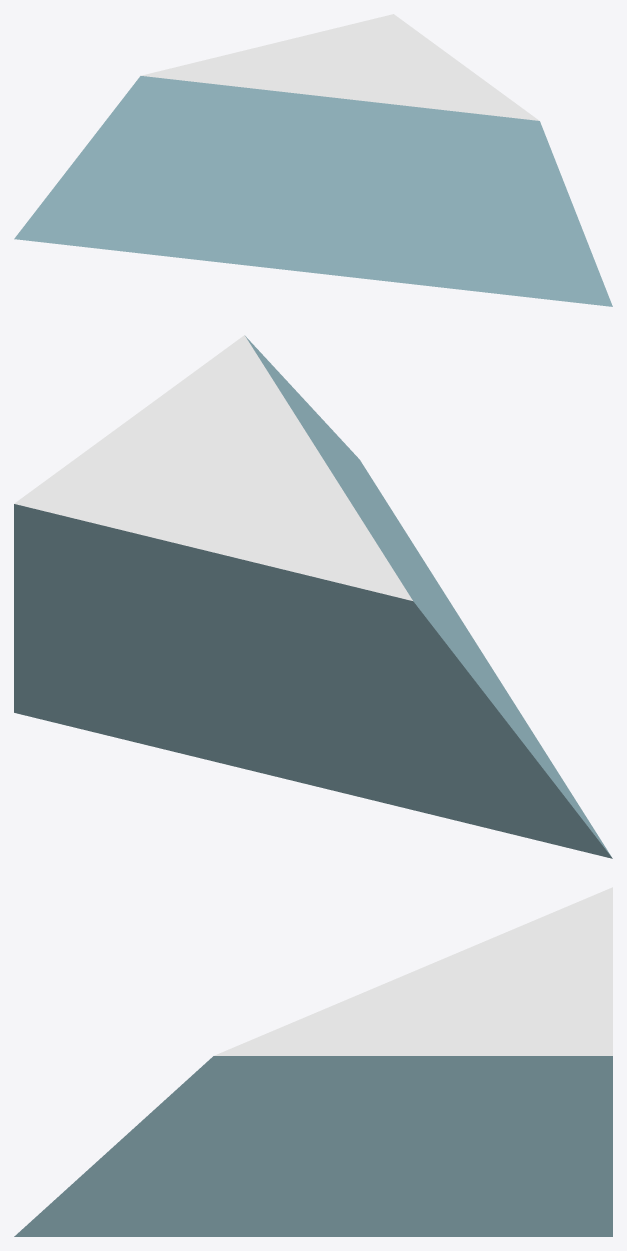
Rendered from Terrain_Tile_Ice_Snow_Ledge_Corner_02.fbx.
The picture shows the model from 3 angles, top to bottom: view 1: azimuth 30°, elevation 25°; view 2: azimuth 150°, elevation 25°; view 3: azimuth 270°, elevation 25°; orthographic projection. The views are drawn at different scales.
Visible parts, largest first — view 1: Terrain_Tile_Ice_Snow_Ledge_Corner_02; view 2: Terrain_Tile_Ice_Snow_Ledge_Corner_02; view 3: Terrain_Tile_Ice_Snow_Ledge_Corner_02.
Part boxes in pixels (box(x1,y1,x2,y2)): Terrain_Tile_Ice_Snow_Ledge_Corner_02: box(14, 14, 612, 306); Terrain_Tile_Ice_Snow_Ledge_Corner_02: box(14, 335, 612, 858); Terrain_Tile_Ice_Snow_Ledge_Corner_02: box(14, 887, 612, 1236).
Bounding box in the file's own units: 47.24 × 15.75 × 47.24.
